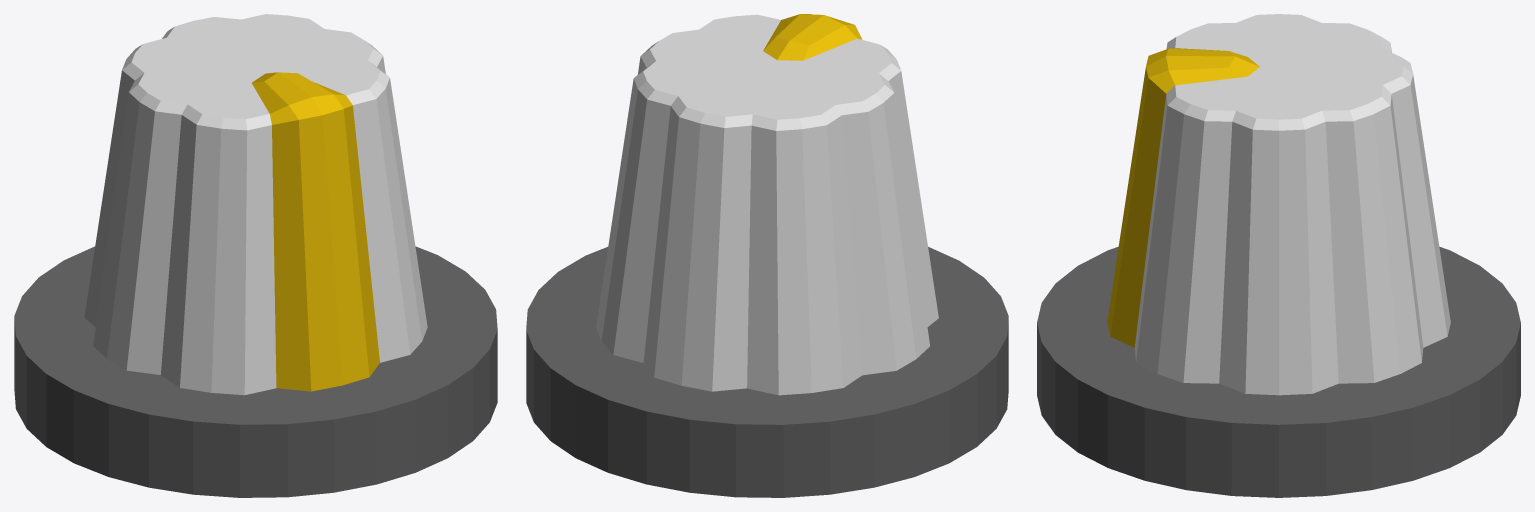
File: Dial1.fbx
The picture shows the model from 3 angles, left to right: view 1: azimuth 30°, elevation 25°; view 2: azimuth 150°, elevation 25°; view 3: azimuth 270°, elevation 25°; orthographic projection.
Visible parts, largest first — view 1: Head, Dial Base; view 2: Head, Dial Base; view 3: Head, Dial Base.
Boxes of the visible parts, box(x1,y1,x2,y2) form: Head: box(84, 14, 427, 395); Dial Base: box(14, 246, 497, 497); Head: box(596, 14, 938, 395); Dial Base: box(526, 246, 1008, 497); Head: box(1107, 14, 1450, 395); Dial Base: box(1037, 246, 1520, 497).
Bounding box in the file's own units: 12 × 9.3 × 12.
